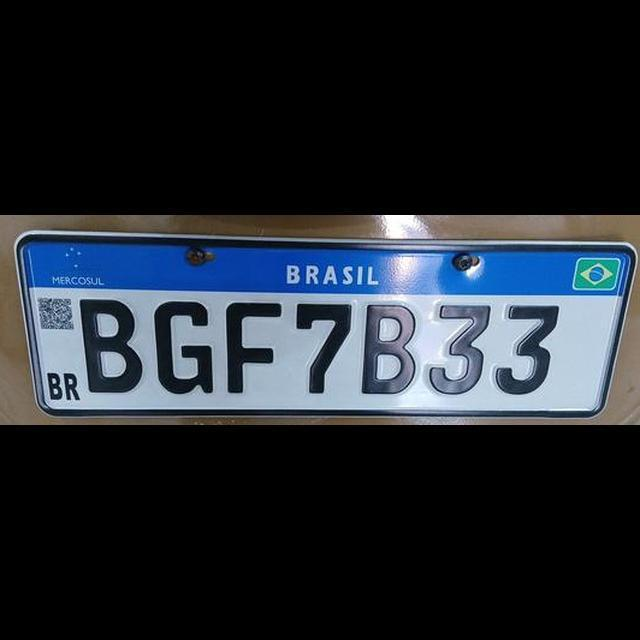Caractere: (74, 296, 142, 394), (422, 299, 490, 397), (494, 299, 560, 395), (225, 299, 288, 395), (154, 298, 213, 398), (362, 300, 418, 398), (296, 297, 352, 395)
Placa: (13, 229, 635, 421)
